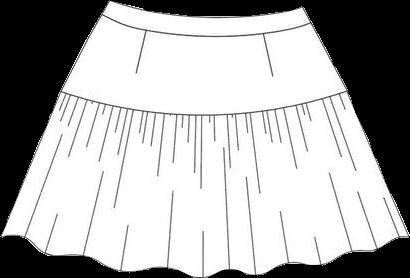Hemline: (0, 235, 409, 277)
Waistline: (60, 87, 346, 116), (101, 13, 310, 38), (109, 0, 303, 19)
